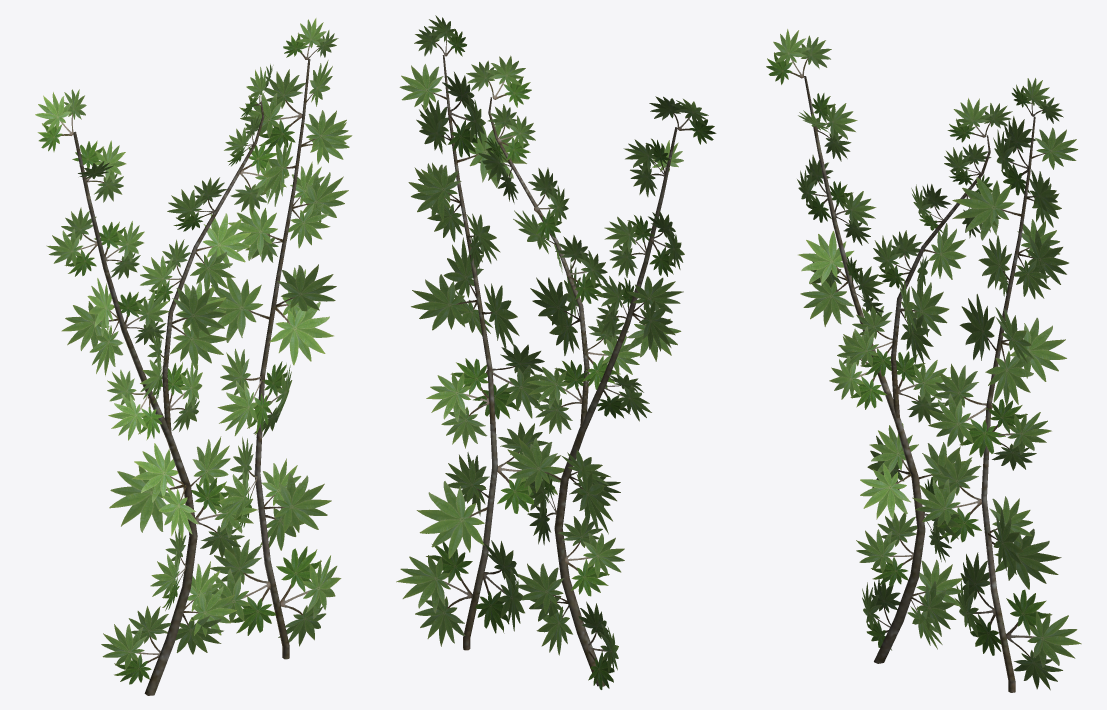
Rendered from SM_vine_c.fbx.
3 renders of one model, left to right at view 1: azimuth 30°, elevation 25°; view 2: azimuth 150°, elevation 25°; view 3: azimuth 330°, elevation 25°, orthographic. The views are drawn at different scales.
Visible parts, largest first — view 1: SM_vine_geo_3, SM_vine_leaf_card_large83, SM_vine_leaf_card_large84, SM_vine_leaf_card_large62, SM_vine_leaf_card_large88, SM_vine_leaf_card_large91, SM_vine_leaf_card_large65, SM_vine_leaf_card_small34, SM_vine_leaf_card_large67, SM_vine_leaf_card_small54, SM_vine_leaf_card_small33, SM_vine_leaf_card_small25 (+40 smaller); view 2: SM_vine_geo_3, SM_vine_leaf_card_large83, SM_vine_leaf_card_large87, SM_vine_leaf_card_small61, SM_vine_leaf_card_large88, SM_vine_leaf_card_large63, SM_vine_leaf_card_large84, SM_vine_leaf_card_large68, SM_vine_leaf_card_large85, SM_vine_leaf_card_large91, SM_vine_leaf_card_small46, SM_vine_leaf_card_large71 (+35 smaller); view 3: SM_vine_geo_3, SM_vine_leaf_card_large83, SM_vine_leaf_card_large88, SM_vine_leaf_card_large85, SM_vine_leaf_card_large63, SM_vine_leaf_card_large87, SM_vine_leaf_card_large84, SM_vine_leaf_card_large71, SM_vine_leaf_card_large68, SM_vine_leaf_card_small26, SM_vine_leaf_card_large81, SM_vine_leaf_card_large91 (+36 smaller).
Boxes of the visible parts, box(x1,y1,x2,y2) form: SM_vine_geo_3: box(73, 59, 310, 695); SM_vine_leaf_card_large83: box(276, 546, 341, 646); SM_vine_leaf_card_large84: box(210, 539, 275, 635); SM_vine_leaf_card_large62: box(101, 606, 170, 684); SM_vine_leaf_card_large88: box(217, 348, 272, 435); SM_vine_leaf_card_large91: box(239, 69, 305, 151); SM_vine_leaf_card_large65: box(191, 478, 257, 558); SM_vine_leaf_card_small34: box(269, 301, 333, 365); SM_vine_leaf_card_large67: box(107, 369, 162, 440); SM_vine_leaf_card_small54: box(109, 466, 184, 532); SM_vine_leaf_card_small33: box(264, 473, 331, 533); SM_vine_leaf_card_small25: box(209, 277, 269, 342); SM_vine_geo_3: box(442, 55, 677, 686); SM_vine_leaf_card_large83: box(396, 542, 472, 646); SM_vine_leaf_card_large87: box(426, 358, 493, 448); SM_vine_leaf_card_small61: box(416, 481, 487, 558); SM_vine_leaf_card_large88: box(473, 344, 546, 419); SM_vine_leaf_card_large63: box(558, 516, 624, 596); SM_vine_leaf_card_large84: box(475, 540, 524, 633); SM_vine_leaf_card_large68: box(527, 360, 591, 433); SM_vine_leaf_card_large85: box(497, 422, 564, 513); SM_vine_leaf_card_large91: box(442, 72, 485, 157); SM_vine_leaf_card_small46: box(411, 274, 476, 330); SM_vine_leaf_card_large71: box(582, 314, 639, 389); SM_vine_geo_3: box(804, 76, 1035, 692); SM_vine_leaf_card_large83: box(1006, 589, 1081, 690); SM_vine_leaf_card_large88: box(928, 363, 1005, 457); SM_vine_leaf_card_large85: box(912, 452, 981, 542); SM_vine_leaf_card_large63: box(856, 512, 917, 586); SM_vine_leaf_card_large87: box(985, 399, 1051, 470); SM_vine_leaf_card_large84: box(954, 552, 1001, 655); SM_vine_leaf_card_large71: box(838, 306, 892, 377); SM_vine_leaf_card_large68: box(890, 351, 951, 424); SM_vine_leaf_card_small26: box(952, 177, 1021, 240); SM_vine_leaf_card_large81: box(766, 29, 831, 84); SM_vine_leaf_card_large91: box(993, 116, 1036, 195).
Bounding box in the file's own units: 120 × 224 × 31.35.
